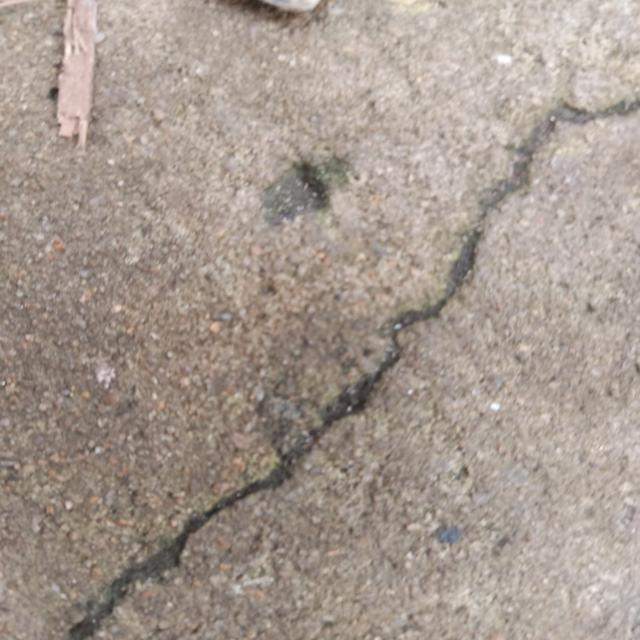diagonal crack: (68, 101, 638, 640)
